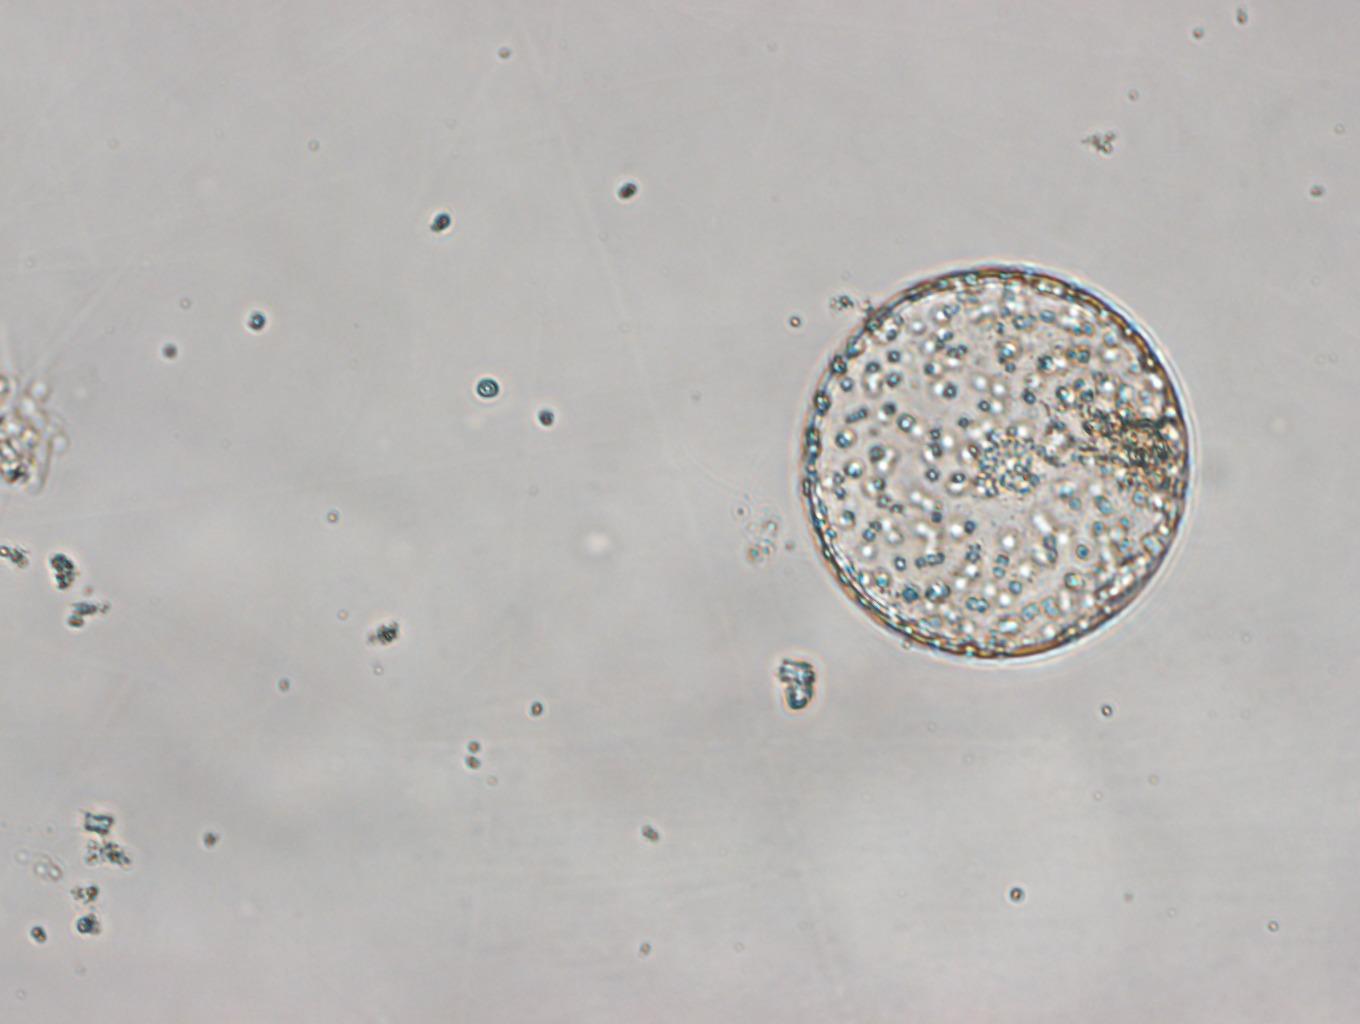coscinodiscus: (801, 265, 1191, 662)
